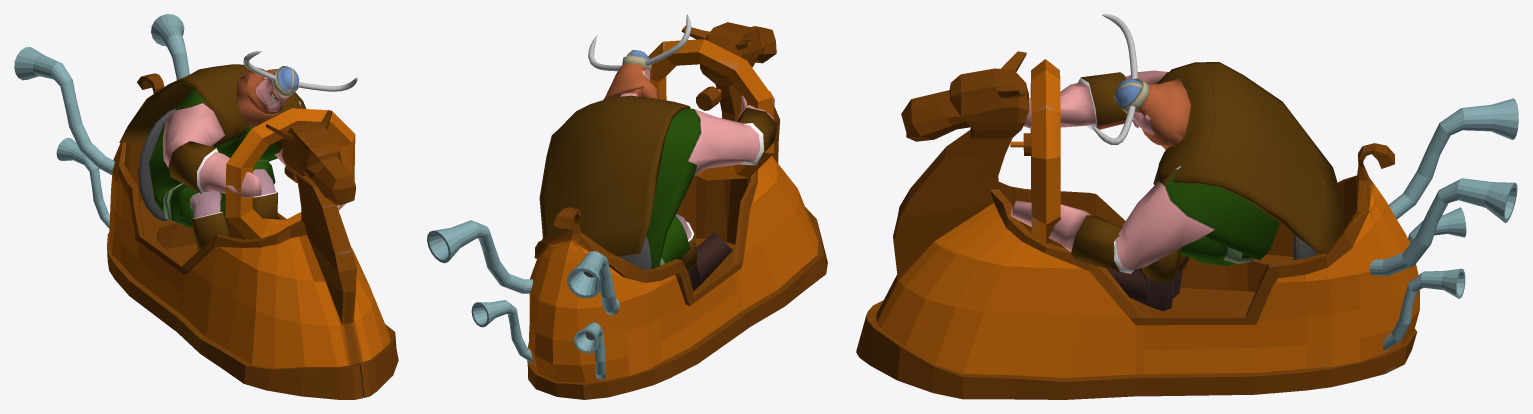
Rendered from vikingoGiroIzq_000544.obj.
The picture shows the model from 3 angles, left to right: view 1: azimuth 30°, elevation 25°; view 2: azimuth 150°, elevation 25°; view 3: azimuth 270°, elevation 25°; orthographic projection. The views are drawn at different scales.
Visible parts, largest first — view 1: kartVikingo, Vikingo; view 2: kartVikingo, Vikingo; view 3: kartVikingo, Vikingo.
Boxes of the visible parts, x1,y1,x2,y2 form: kartVikingo: (14, 14, 398, 399); Vikingo: (119, 51, 357, 250); kartVikingo: (427, 22, 827, 399); Vikingo: (539, 14, 777, 290); kartVikingo: (856, 51, 1518, 399); Vikingo: (1011, 14, 1342, 311).
Bounding box in the file's own units: 3.9 × 5.82 × 10.31.
Materials: 2 (2 with a texture image).
